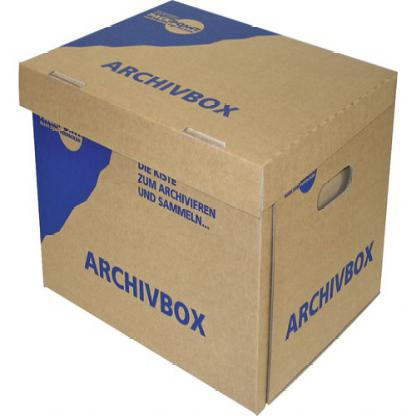box: (17, 0, 398, 415)
